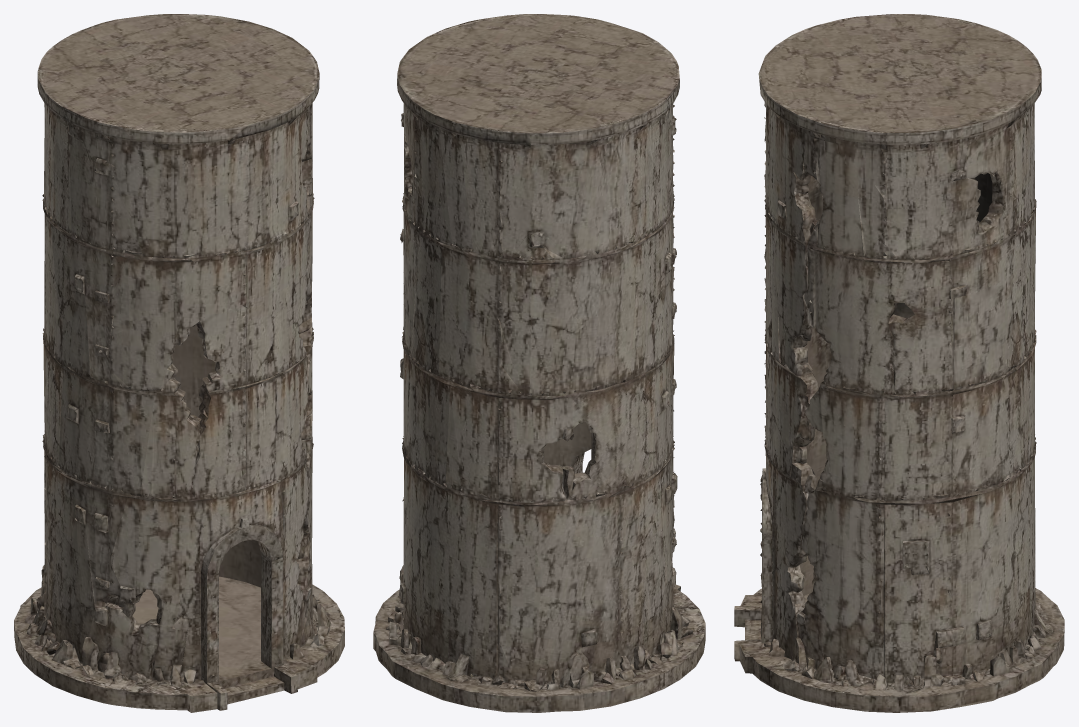
Rendered from gt_broken.glb.
The picture shows the model from 3 angles, left to right: view 1: azimuth 30°, elevation 25°; view 2: azimuth 150°, elevation 25°; view 3: azimuth 270°, elevation 25°; orthographic projection.
Visible parts, largest first — view 1: gt_broken; view 2: gt_broken; view 3: gt_broken.
Boxes of the visible parts, left/top/right/bottom form: gt_broken: left=14, top=14, right=344, bottom=712; gt_broken: left=373, top=14, right=705, bottom=712; gt_broken: left=734, top=14, right=1064, bottom=712.
Bounding box in the file's own units: 1 × 1.9 × 1.
Materials: 1 (1 with a texture image).
